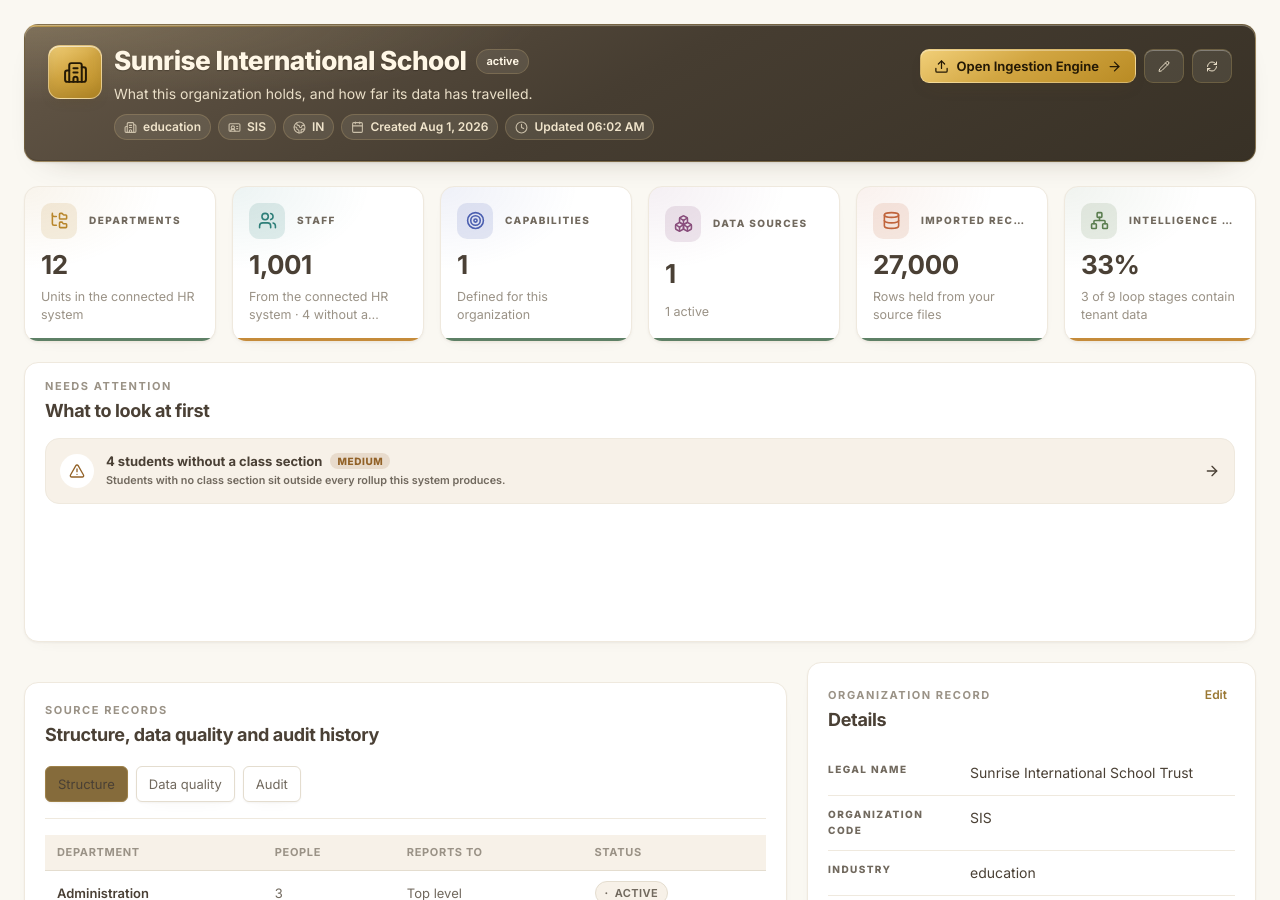
Test case: CommandCenter organization overview › loads data quality and audit only when their tab is opened
Check: the heading "Sunrise International School" is shown, box [114, 46, 466, 76]
Click the tab "Data quality" at (185, 784), box [136, 766, 235, 802]
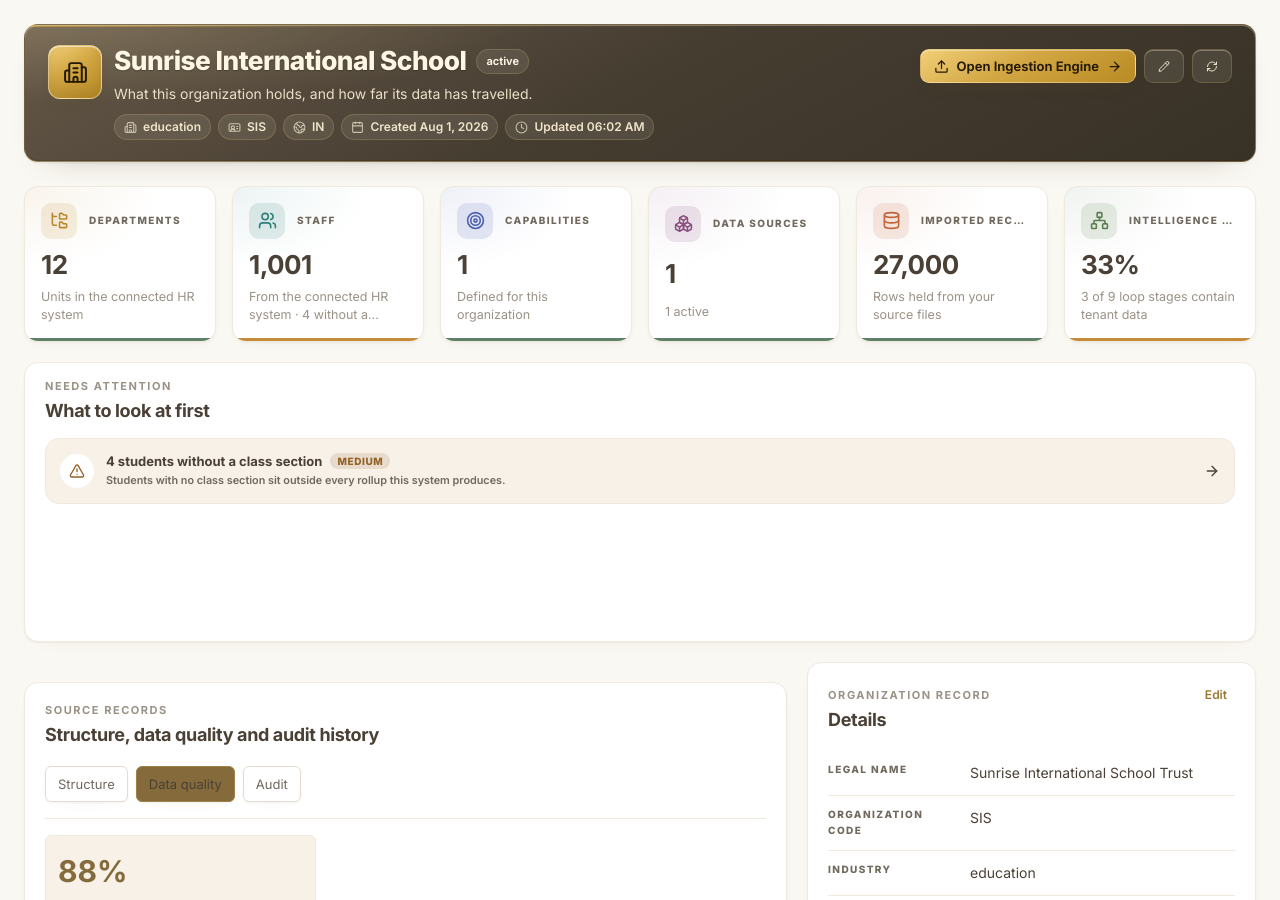
Click the tab "Audit" at (272, 784), box [243, 766, 301, 802]
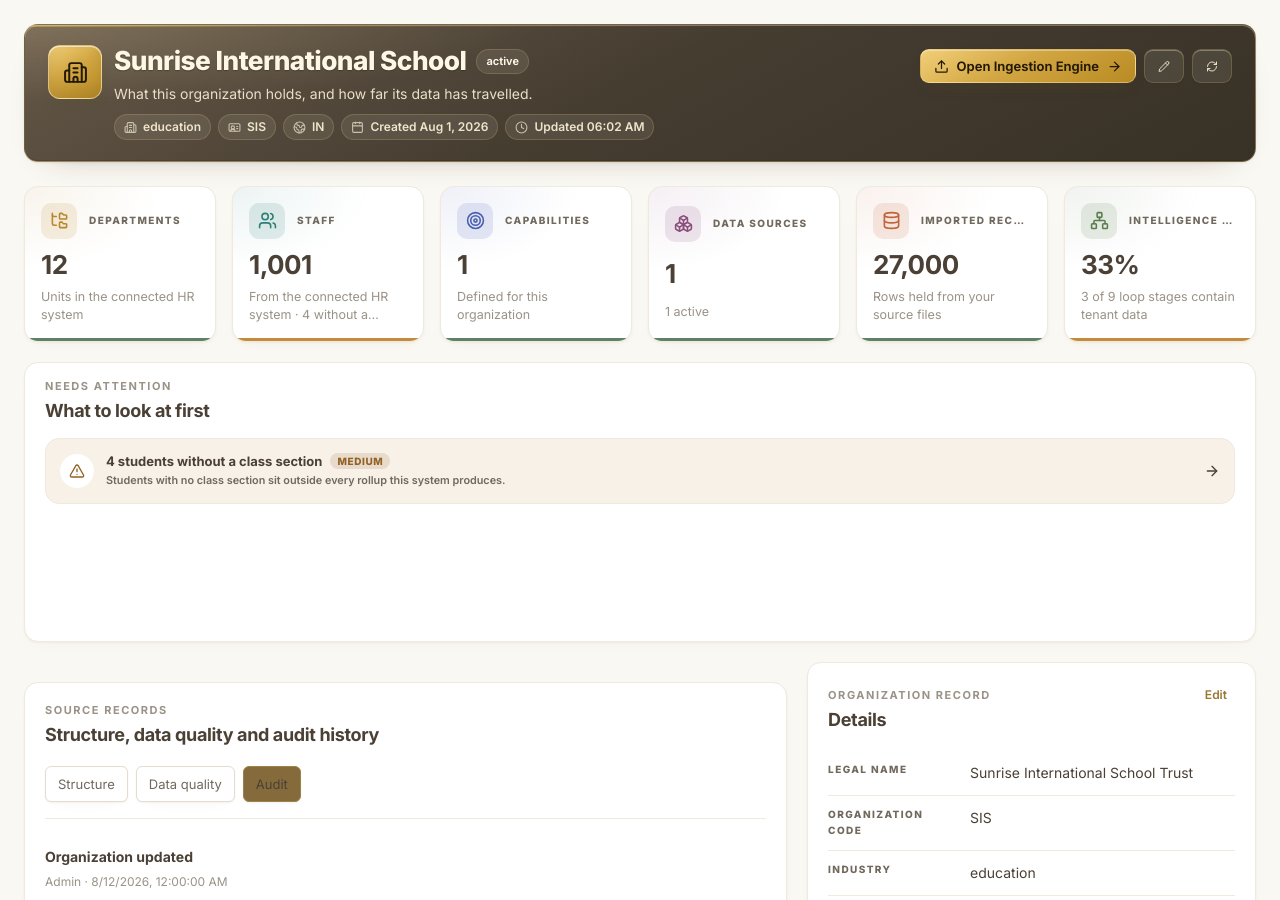
Check: the text "Organization updated" is shown, box [45, 848, 193, 865]
